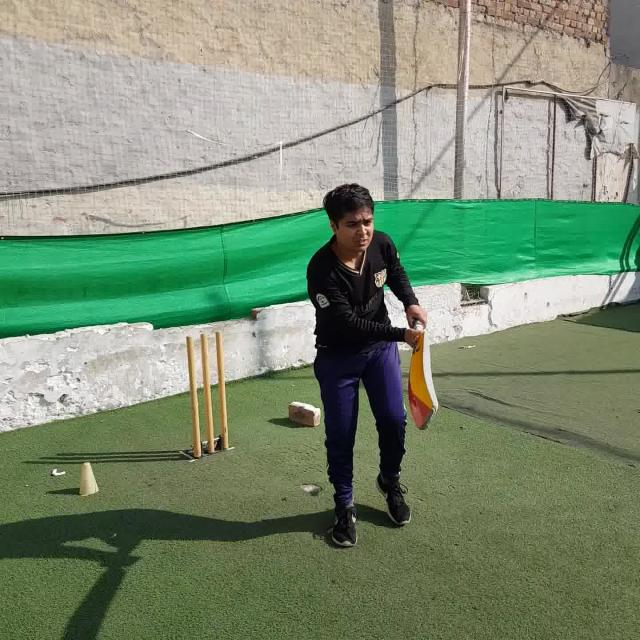bat: (406, 306, 437, 428)
